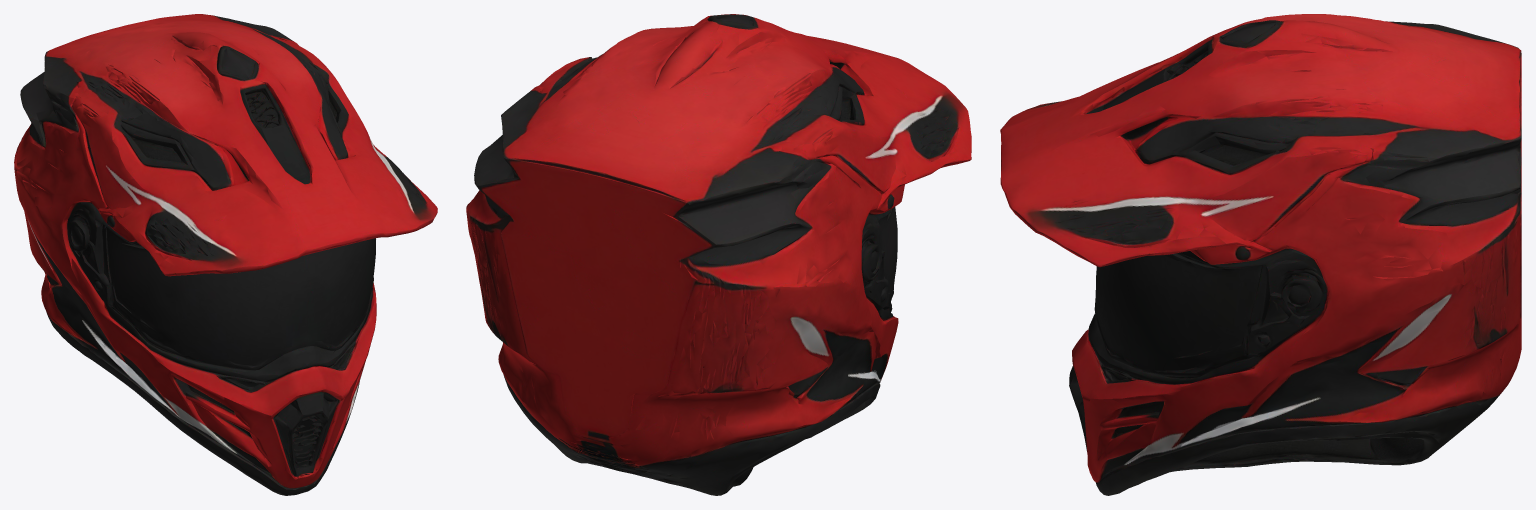
Rendered from reference-helmet-v341.glb.
3 renders of one model, left to right at view 1: azimuth 30°, elevation 25°; view 2: azimuth 150°, elevation 25°; view 3: azimuth 270°, elevation 25°, orthographic. The views are drawn at different scales.
Parts seen in each view (by area): view 1: Mesh; view 2: Mesh; view 3: Mesh.
Boxes of the visible parts, x1=… form: Mesh: x1=14, y1=14, x2=437, y2=495; Mesh: x1=466, y1=14, x2=971, y2=495; Mesh: x1=1000, y1=14, x2=1521, y2=495.
Bounding box in the file's own units: 1.47 × 1.87 × 1.89.
1 material, 1 textured.
